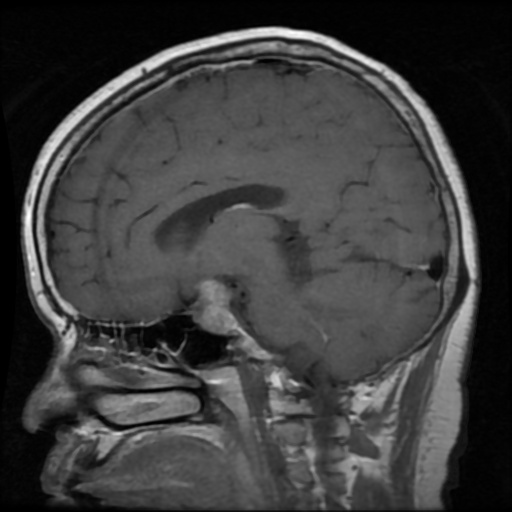pituitary: (196, 281, 238, 333)
